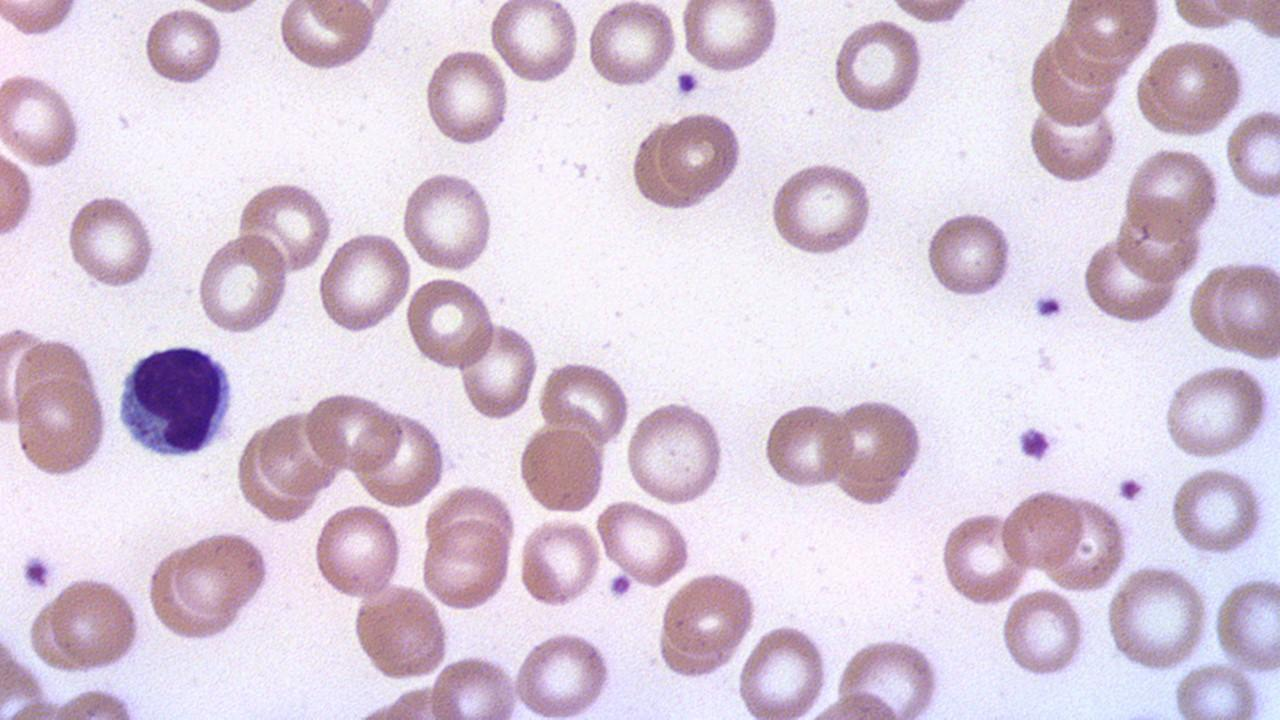Platelets: (1016, 422, 1056, 463), (1031, 292, 1067, 321), (674, 69, 701, 98)
RBC: (1104, 563, 1210, 673), (1159, 362, 1275, 462), (624, 398, 726, 507), (828, 394, 926, 506), (766, 160, 879, 257), (12, 371, 110, 481), (400, 167, 498, 274), (193, 231, 292, 336), (316, 229, 414, 335), (1141, 37, 1247, 132), (351, 582, 452, 681), (237, 177, 336, 277), (830, 16, 926, 117), (1122, 143, 1224, 238), (1167, 463, 1269, 558), (311, 500, 404, 604), (352, 408, 448, 508), (1040, 490, 1132, 594), (64, 191, 158, 292), (171, 528, 274, 620), (735, 621, 831, 719), (1080, 234, 1182, 326), (422, 45, 511, 150), (47, 574, 142, 672), (404, 273, 497, 373), (833, 636, 946, 716), (660, 570, 756, 664), (938, 510, 1032, 606), (594, 498, 694, 588), (511, 628, 613, 716), (654, 108, 747, 203), (418, 519, 514, 611), (924, 206, 1016, 301), (1024, 97, 1122, 186), (456, 319, 539, 424), (302, 388, 402, 474), (585, 0, 679, 91), (761, 398, 851, 492), (1, 69, 84, 170), (536, 359, 632, 446), (516, 424, 608, 514), (487, 0, 580, 89), (1000, 586, 1088, 680), (518, 514, 602, 610), (998, 484, 1086, 574), (257, 408, 344, 496), (679, 2, 783, 75), (275, 1, 378, 73), (142, 4, 224, 90), (1112, 203, 1200, 282), (1213, 572, 1279, 676), (0, 323, 55, 438), (1060, 0, 1160, 63), (1216, 258, 1278, 359), (1184, 261, 1250, 355), (426, 654, 521, 717), (1224, 104, 1280, 202), (1171, 660, 1263, 719), (1, 141, 35, 247), (0, 0, 84, 38), (880, 0, 978, 25)
WBC: (112, 340, 239, 461)
